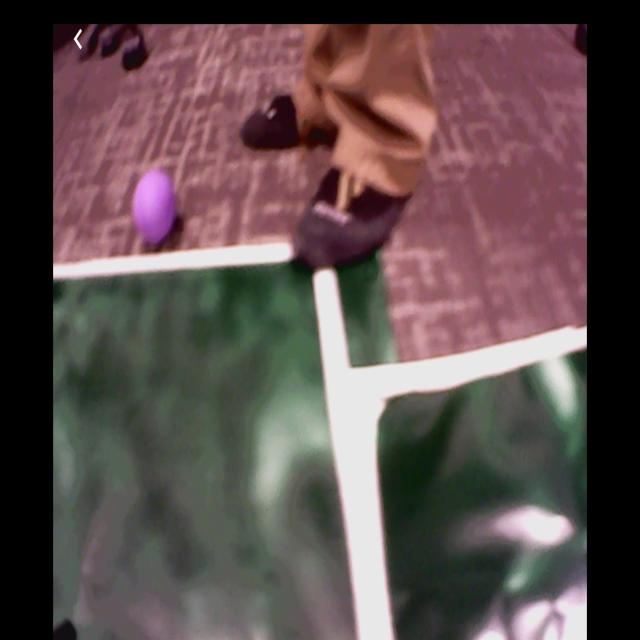ball: (135, 171, 176, 242)
